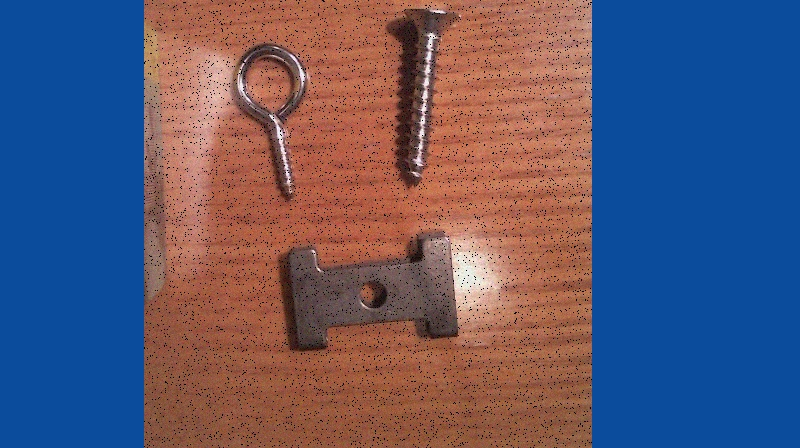O001: (227, 40, 315, 208)
O002: (281, 235, 463, 356)
S001: (394, 2, 464, 191)
